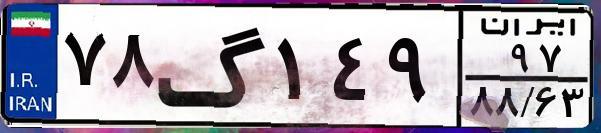1: (270, 28, 330, 110)
3: (560, 70, 590, 125)
4: (330, 28, 385, 110)
6: (535, 70, 560, 125)
7: (57, 26, 110, 100), (537, 27, 568, 80)
8: (110, 28, 156, 98), (470, 70, 495, 125), (495, 70, 520, 125)
9: (385, 28, 445, 110), (508, 27, 537, 80)
گ: (156, 12, 270, 120)
